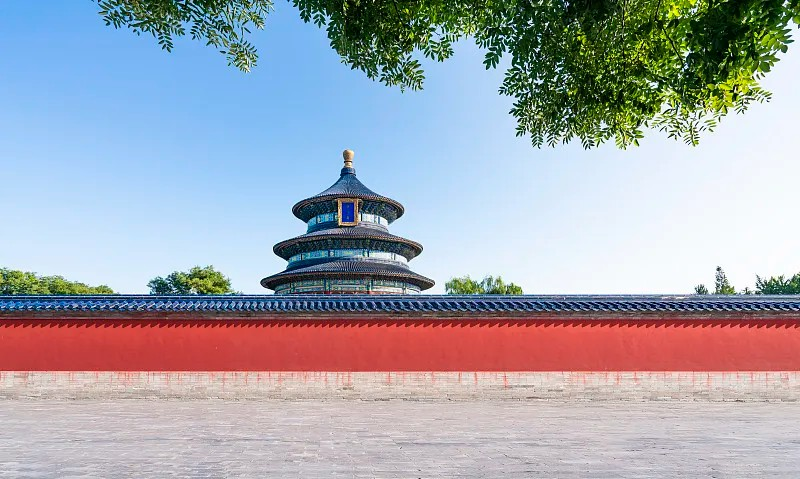Heaven: (260, 149, 435, 298)
